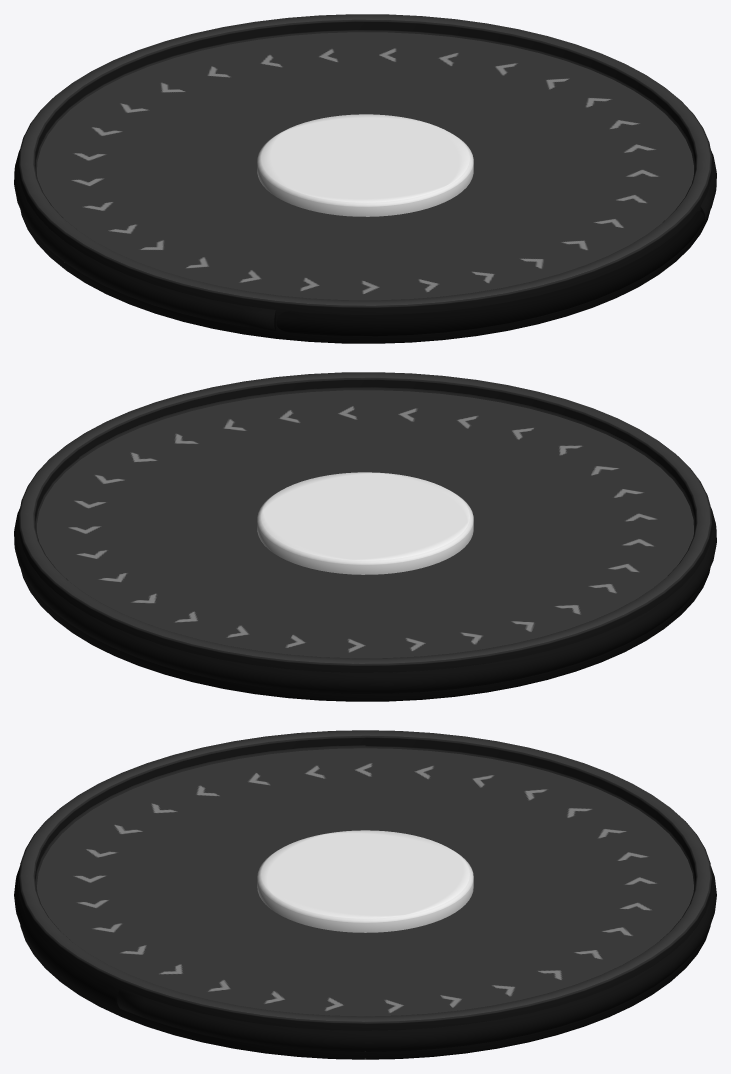
The model's file is roulette.glb.
The picture shows the model from 3 angles, top to bottom: view 1: azimuth 30°, elevation 25°; view 2: azimuth 150°, elevation 25°; view 3: azimuth 270°, elevation 25°; orthographic projection.
Visible parts, largest first — view 1: Roulette_v3_Spinner, Roulette_v3_Base, Roulette_v3_Center Border, Roulette_v3_UIstrip; view 2: Roulette_v3_Spinner, Roulette_v3_Base, Roulette_v3_Center Border; view 3: Roulette_v3_Spinner, Roulette_v3_Base, Roulette_v3_Center Border, Roulette_v3_UIstrip.
Boxes of the visible parts, x1=… form: Roulette_v3_Spinner: x1=37, y1=32, x2=693, y2=300; Roulette_v3_Base: x1=14, y1=14, x2=716, y2=343; Roulette_v3_Center Border: x1=257, y1=114, x2=473, y2=216; Roulette_v3_UIstrip: x1=276, y1=211, x2=704, y2=336; Roulette_v3_Spinner: x1=37, y1=390, x2=693, y2=658; Roulette_v3_Base: x1=14, y1=372, x2=716, y2=701; Roulette_v3_Center Border: x1=257, y1=472, x2=473, y2=574; Roulette_v3_Spinner: x1=37, y1=748, x2=693, y2=1016; Roulette_v3_Base: x1=18, y1=730, x2=716, y2=1059; Roulette_v3_Center Border: x1=257, y1=830, x2=473, y2=932; Roulette_v3_UIstrip: x1=14, y1=865, x2=115, y2=1005.
Size of the model in its own units: 2.53 by 0.157 by 2.53.
2 materials, 2 textured.
